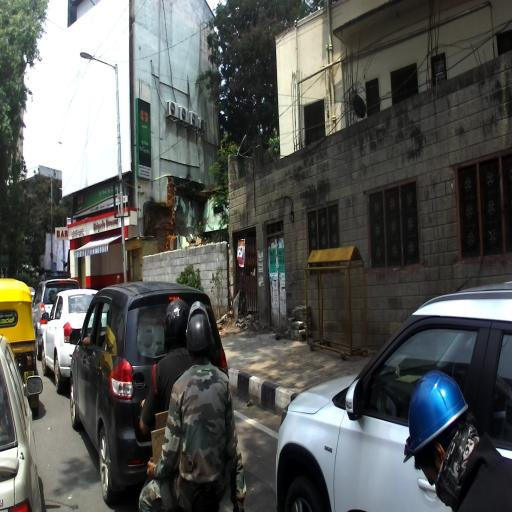street_light_0: (79, 52, 119, 72)
